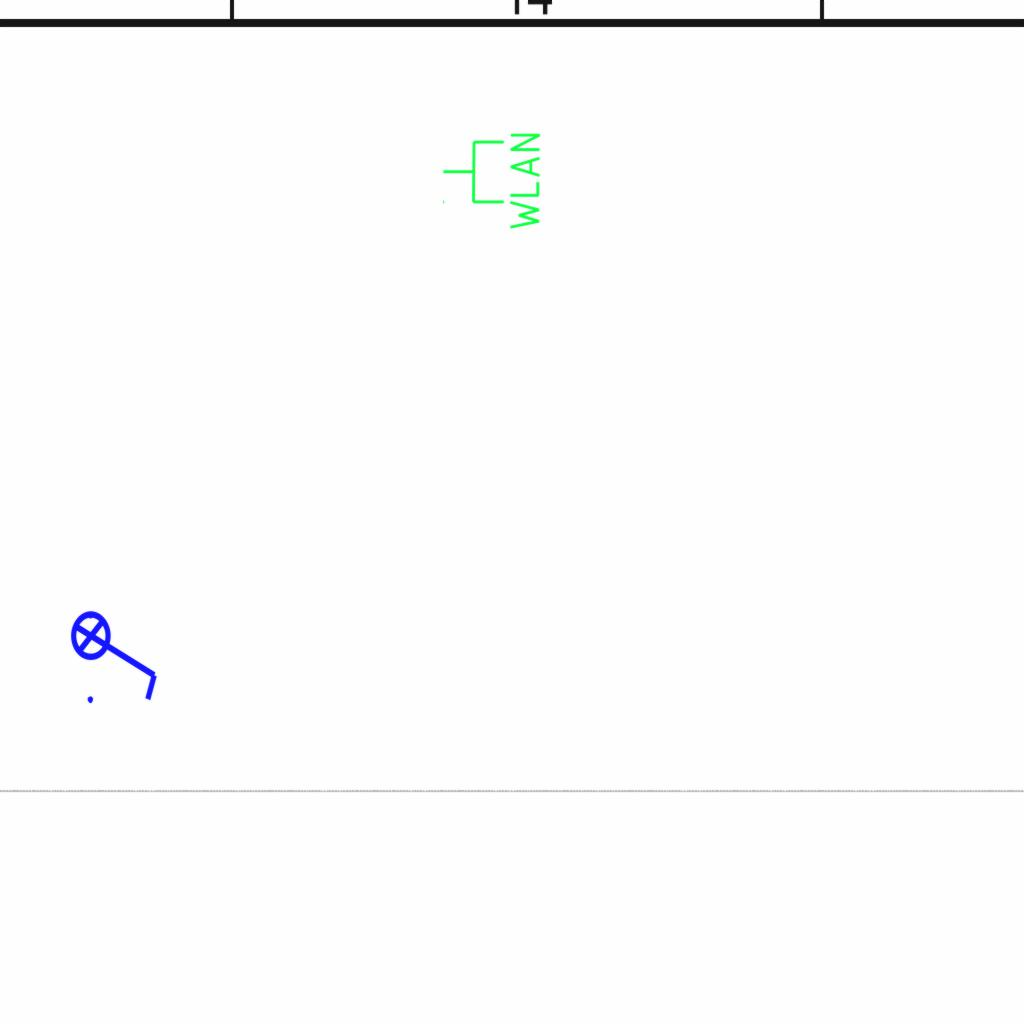Ausschalter_beleuchtet: (69, 597, 165, 709)
WLAN: (440, 129, 544, 234)
